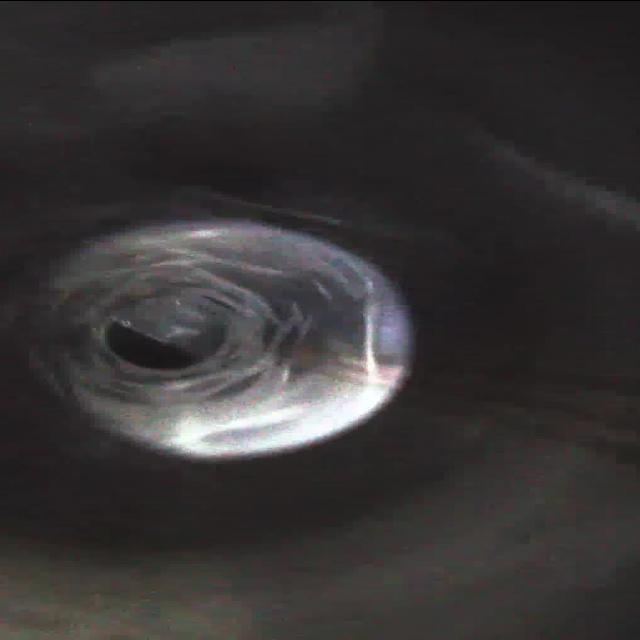crack: (244, 300, 334, 374), (133, 228, 245, 284), (116, 378, 230, 431)
